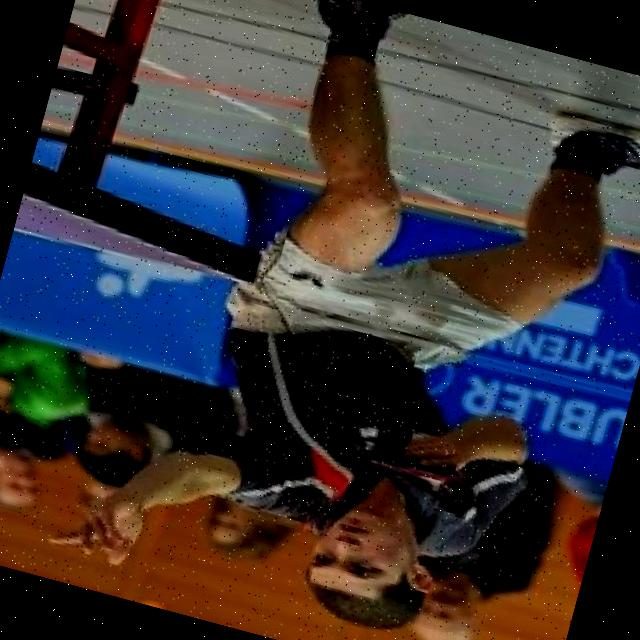ping-pong-ball: (136, 594, 170, 610)
